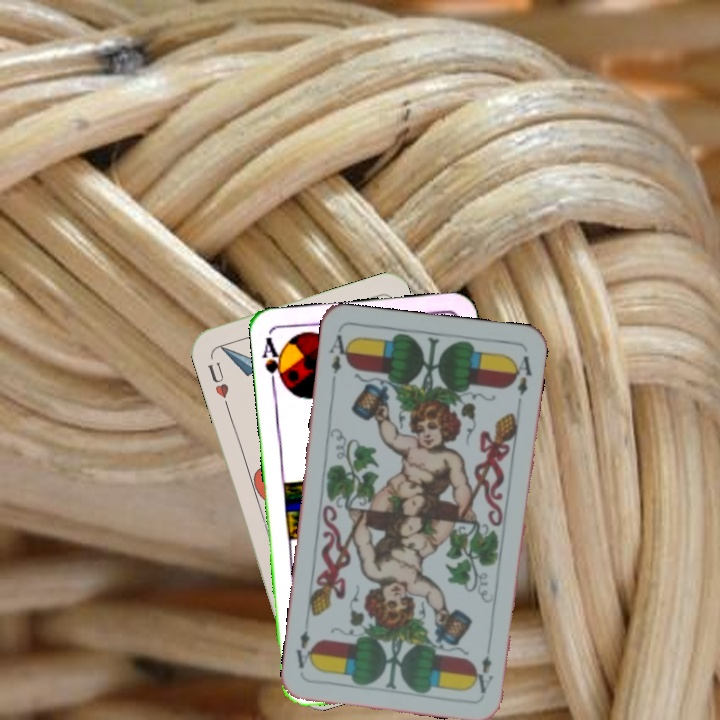EA: (325, 330, 353, 387), (474, 637, 496, 696)
HU: (203, 357, 231, 401)
SA: (258, 333, 289, 392)
